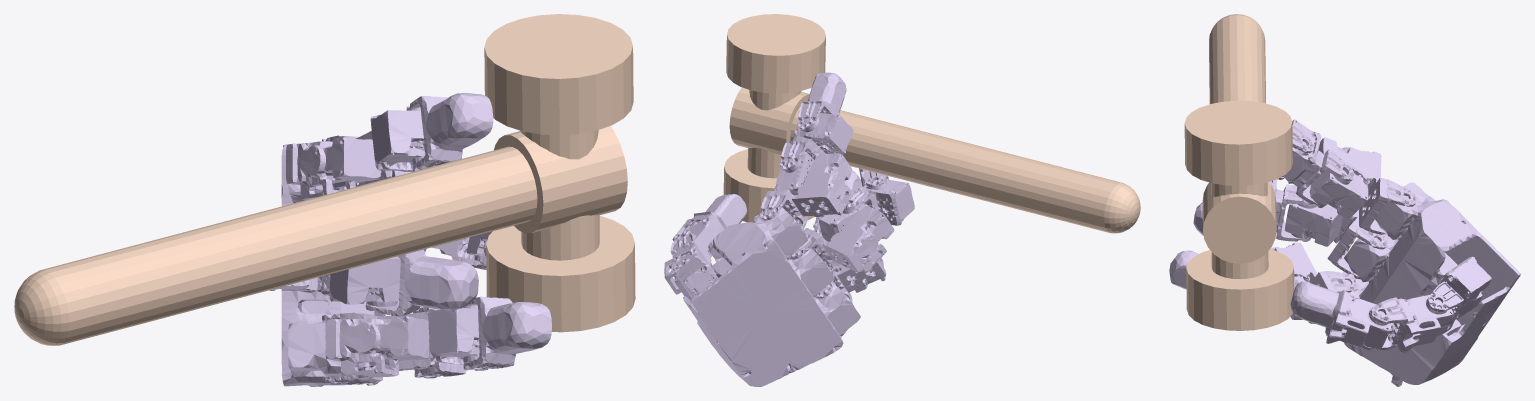
File: 25d68a27067933-closed.glb
The picture shows the model from 3 angles, left to right: view 1: azimuth 30°, elevation 25°; view 2: azimuth 150°, elevation 25°; view 3: azimuth 270°, elevation 25°; orthographic projection. The views are drawn at different scales.
Parts seen in each view (by area): view 1: world, LEAP_hand; view 2: LEAP_hand, world; view 3: LEAP_hand, world.
Boxes of the visible parts, x1,y1,x2,y2 form: world: (14,14,635,345); LEAP_hand: (269,93,551,386); LEAP_hand: (664,72,914,386); world: (723,14,1140,233); LEAP_hand: (1169,119,1520,386); world: (1184,14,1294,330).
Size of the model in its own units: 0.3591 by 0.2268 by 0.2477.
